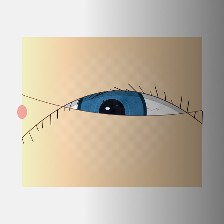pinguecula_lesion: (15, 90, 61, 127)
